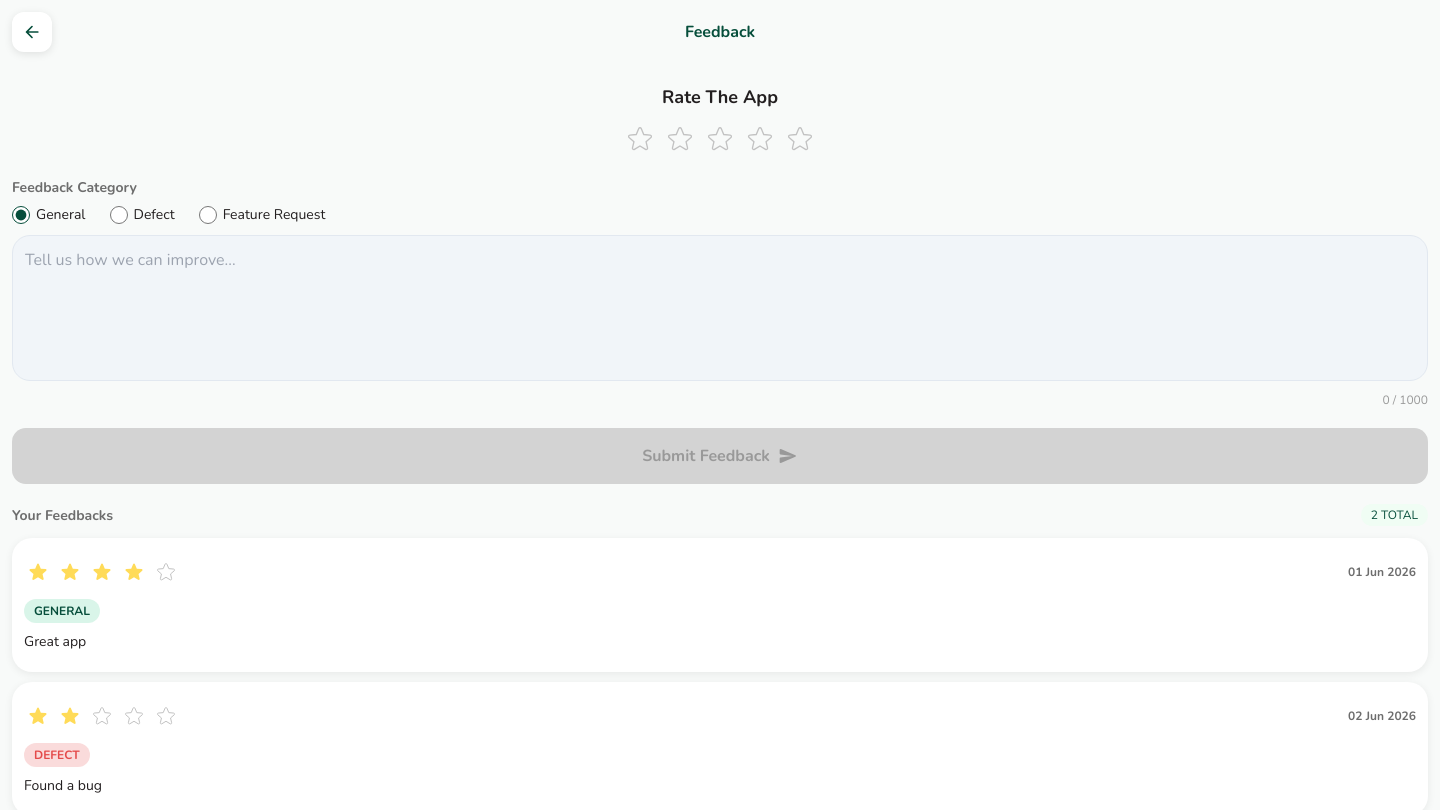
it: Feedback — history list › opens the details sheet when a history card is clicked, and Close dismisses it
The image size is (1440, 810).
Click the text "Great app".
click(55, 642)  # box [24,632,86,651]
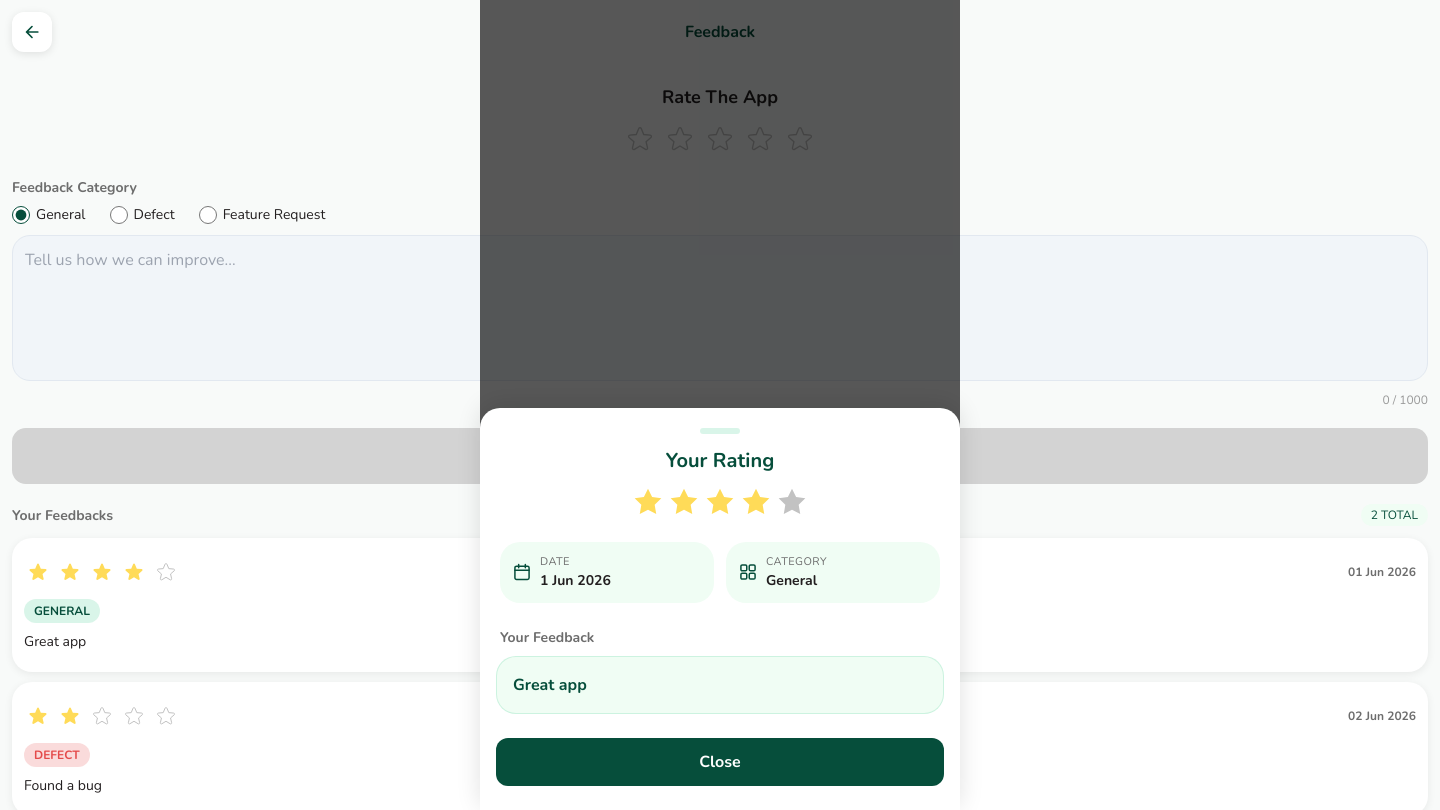
Expected: the text "Your Rating" is shown, [666,446,774,474]
Click the button "Close".
click(720, 762)  # box [496,738,944,786]
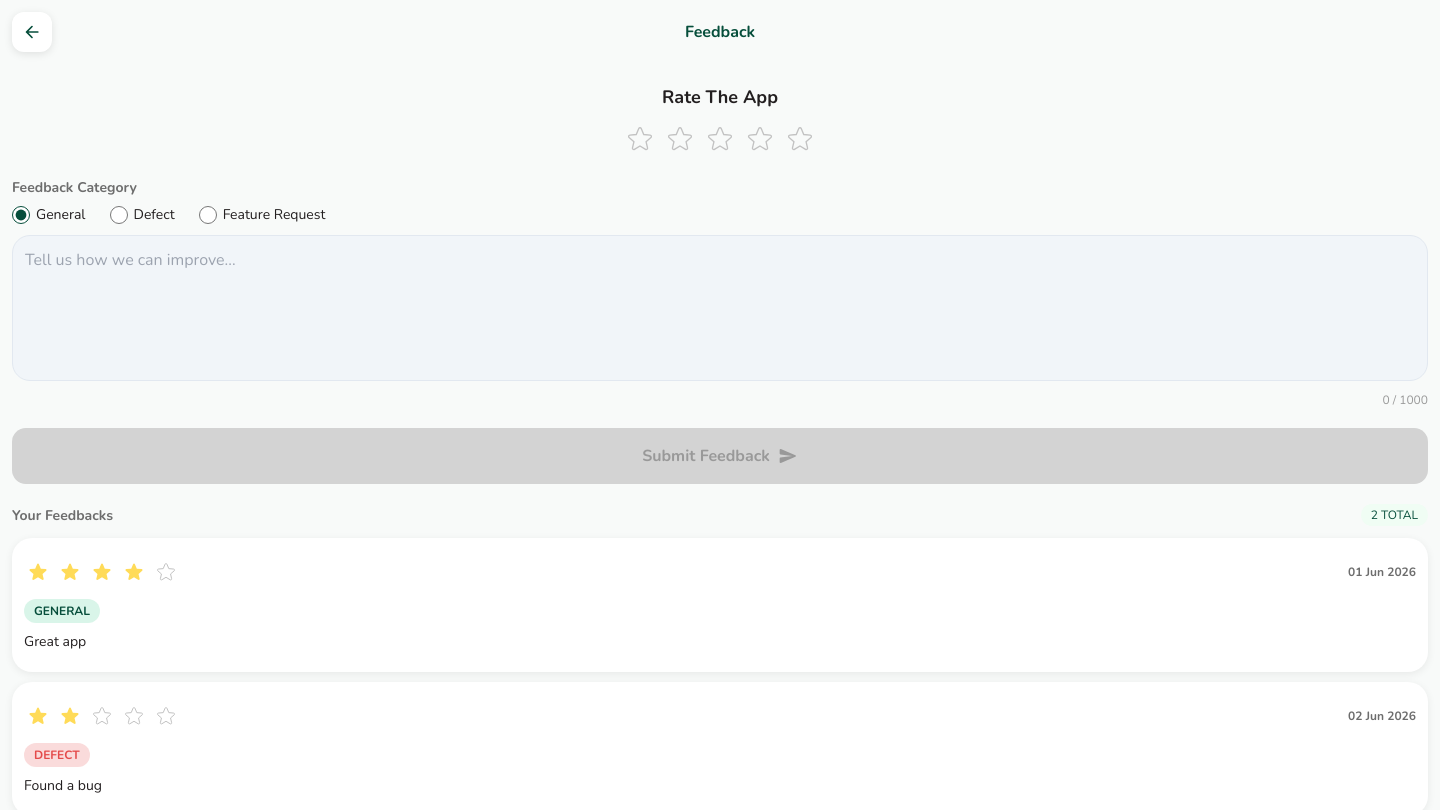
Expected: the text "Your Rating" is gone
